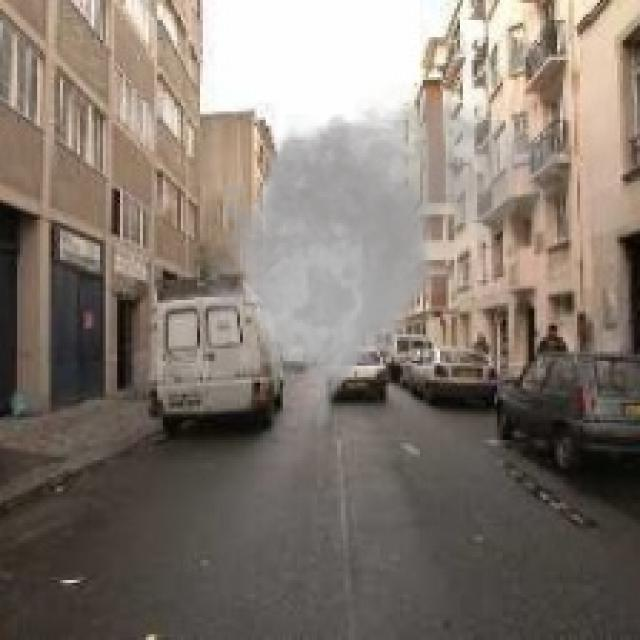smoke: (194, 77, 566, 440)
